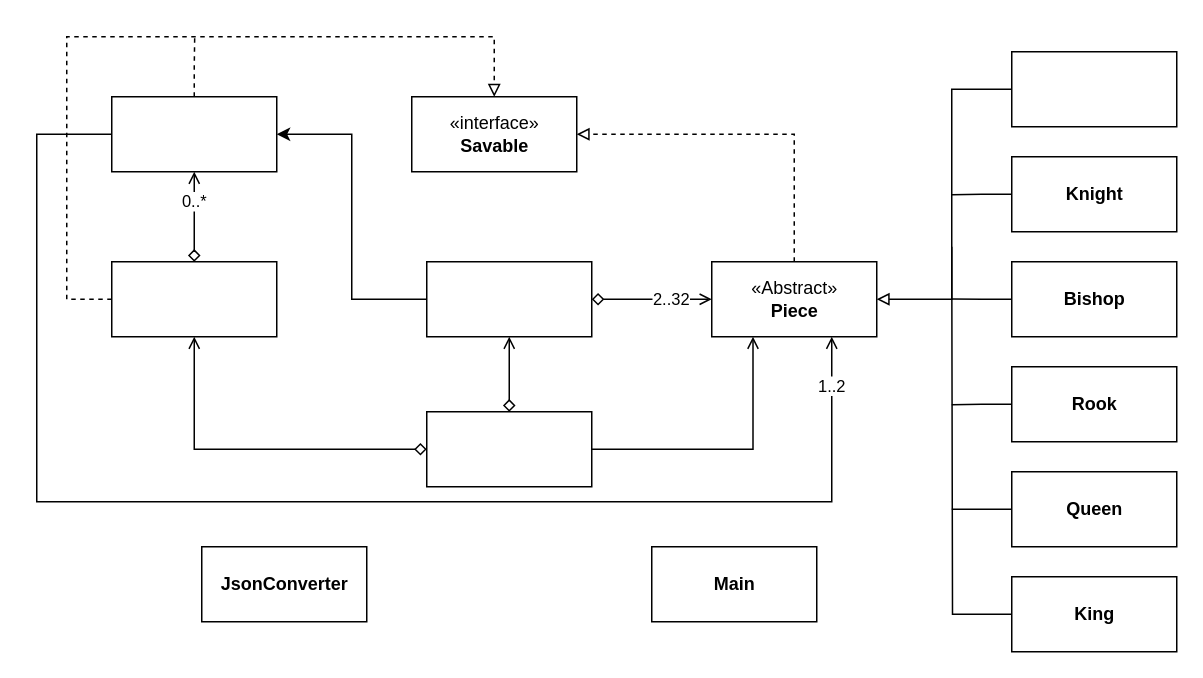
Image size: 1203x678. Some labels were removed from this diagram. Here are the shapes that lost their labels. From the top down, the box of each, then its label:
(1010, 50, 1177, 127): Pawn
(110, 95, 277, 172): Move
(110, 260, 277, 337): MoveList
(425, 260, 592, 337): GameBoard
(425, 410, 592, 487): ChessGameGUI
